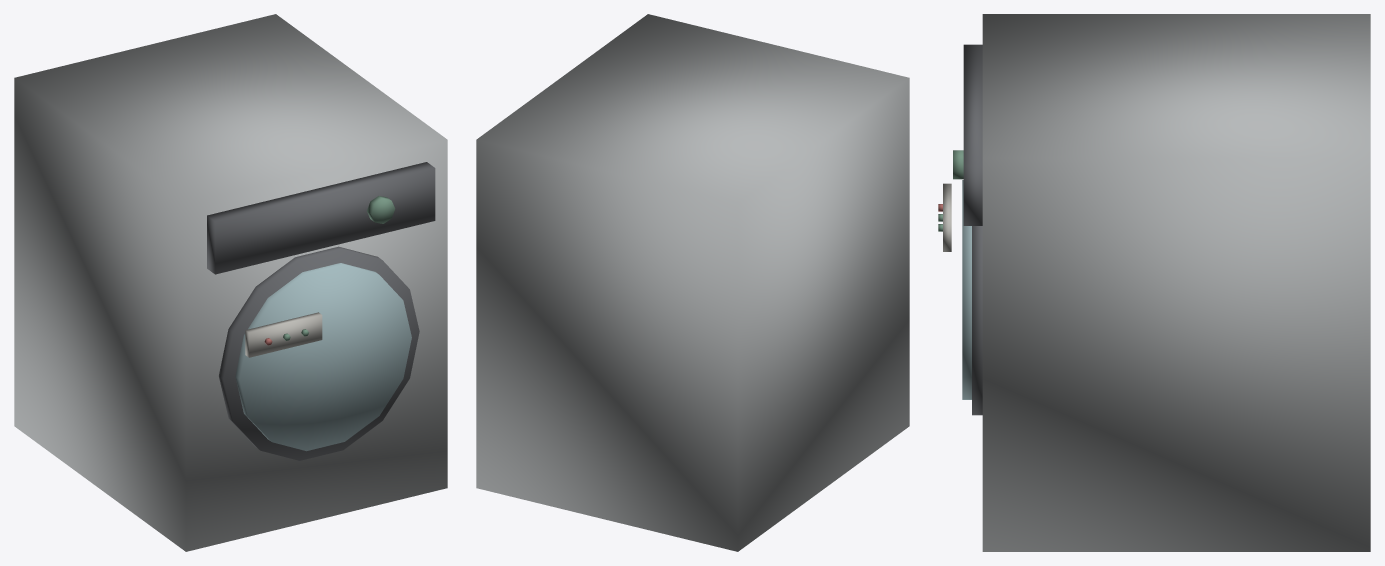
File: industrial_washer__deep.glb
3 views of the same model, side by side, from view 1: azimuth 30°, elevation 25°; view 2: azimuth 150°, elevation 25°; view 3: azimuth 270°, elevation 25° (orthographic). The views are drawn at different scales.
Parts seen in each view (by area): view 1: world; view 2: world; view 3: world.
Boxes of the visible parts, bbox=[...] form: world: bbox=[14, 14, 447, 551]; world: bbox=[476, 14, 909, 551]; world: bbox=[938, 14, 1370, 551].
Bounding box in the file's own units: 0.88 × 1.12 × 1.11.
